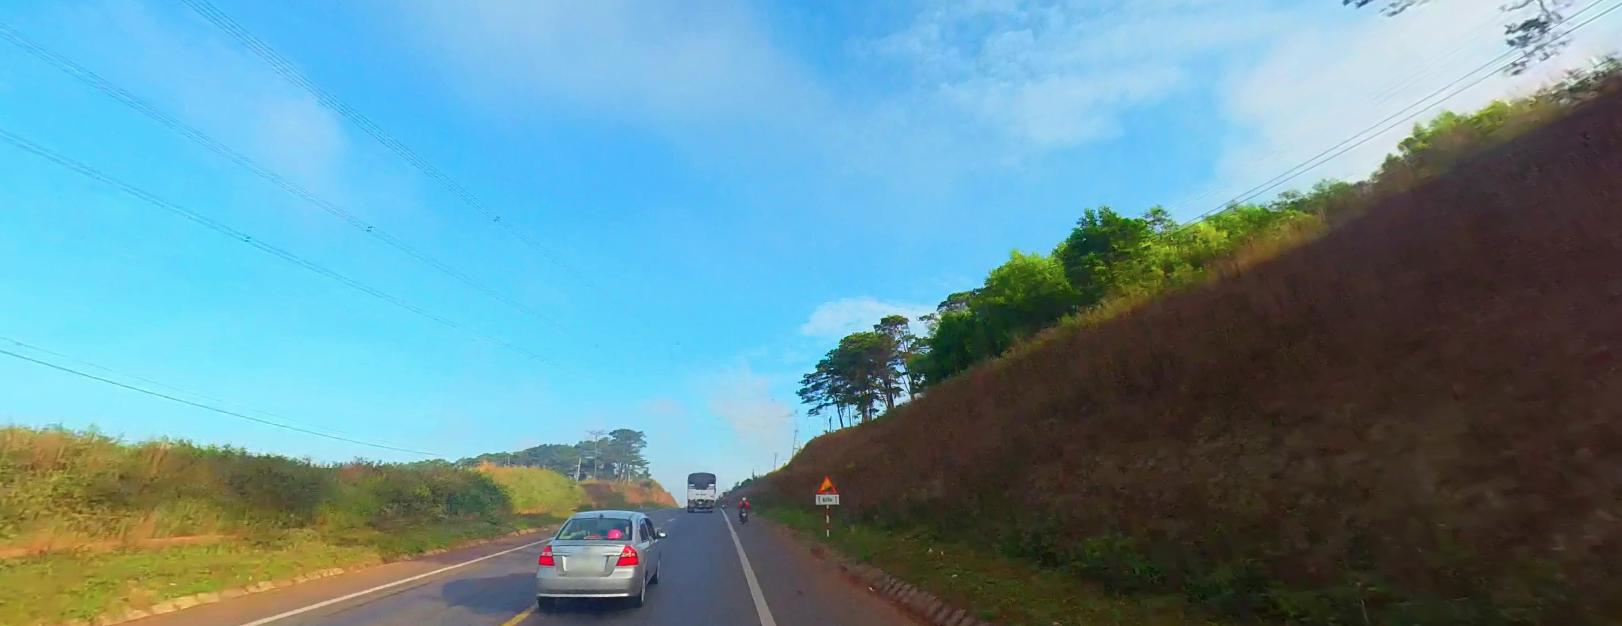Nguy hiem: (816, 474, 837, 491)
